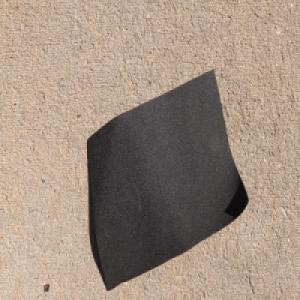PaintChip: (85, 67, 249, 291)
